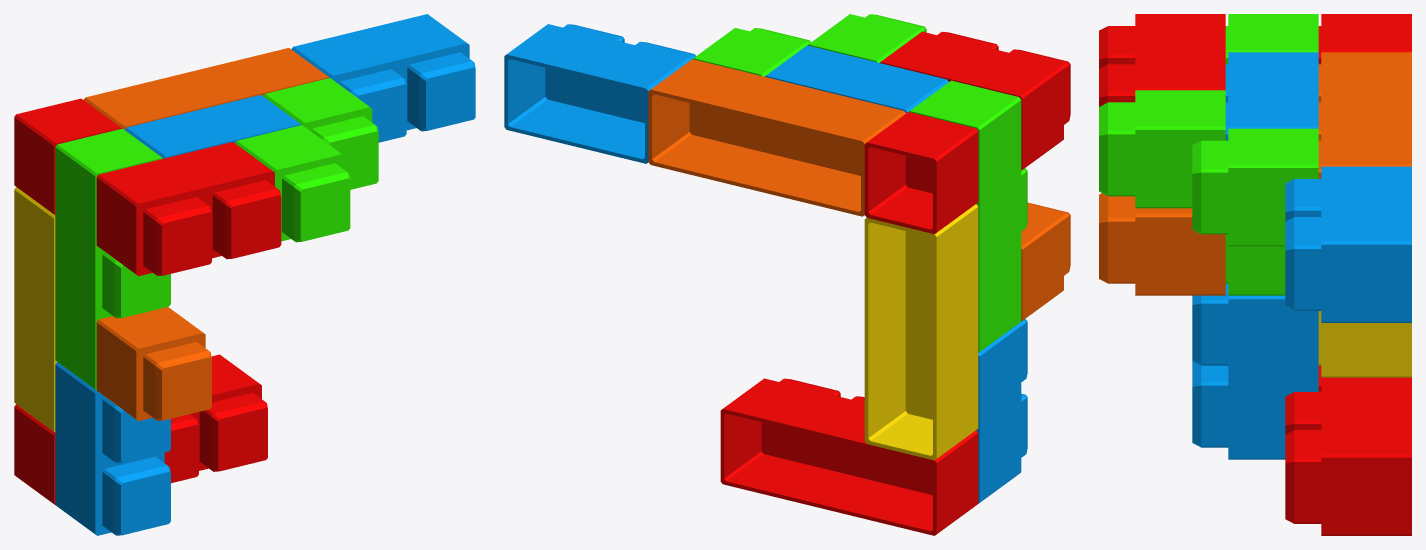
File: blocks.obj
The picture shows the model from 3 angles, left to right: view 1: azimuth 30°, elevation 25°; view 2: azimuth 150°, elevation 25°; view 3: azimuth 270°, elevation 25°; orthographic projection. The views are drawn at different scales.
Visible parts, largest first — view 1: Line043_17, Line045_21, Line047_32, Line041_7, Line050_43, Line042_10, Line046_28, Line040_3, Line051_46, Rectangle031_31, Rectangle014_9, Rectangle042_47 (+24 smaller); view 2: Line045_21, Line041_7, Line049_37, Line042_10, Line043_17, Line040_3, Line047_32, Rectangle009_8, Rectangle038_41, Rectangle026_25, Line050_43, Line046_28 (+11 smaller); view 3: Line049_37, Line042_10, Line050_43, Line041_7, Line044_18, Line048_35, Line051_46, Line046_28, Line047_32, Line043_17, Line045_21, Rectangle033_34 (+23 smaller).
Part boxes in pixels (x1,y1,x2,y2): Line043_17: (55, 128, 157, 386); Line045_21: (14, 187, 51, 428); Line047_32: (96, 142, 268, 271); Line041_7: (84, 48, 324, 125); Line050_43: (55, 362, 92, 531); Line042_10: (291, 14, 462, 75); Line046_28: (125, 95, 296, 156); Line040_3: (14, 98, 116, 211); Line051_46: (96, 307, 198, 416); Rectangle031_31: (212, 180, 281, 259); Rectangle014_9: (407, 52, 475, 131); Rectangle042_47: (143, 342, 211, 420); Line045_21: (864, 207, 974, 460); Line041_7: (648, 62, 901, 216); Line049_37: (720, 381, 974, 535); Line042_10: (504, 27, 685, 163); Line043_17: (909, 83, 1016, 352); Line040_3: (864, 115, 974, 234); Line047_32: (880, 34, 1059, 170); Rectangle009_8: (688, 59, 905, 175); Rectangle038_41: (760, 378, 978, 507); Rectangle026_25: (905, 204, 978, 431); Line050_43: (976, 326, 1016, 503); Line046_28: (764, 48, 944, 113); Line049_37: (1330, 377, 1411, 535); Line042_10: (1330, 166, 1411, 322); Line050_43: (1237, 295, 1318, 459); Line041_7: (1330, 52, 1411, 166); Line044_18: (1237, 128, 1318, 246); Line048_35: (1144, 90, 1225, 208); Line051_46: (1144, 208, 1225, 295); Line046_28: (1237, 52, 1318, 128); Line047_32: (1144, 14, 1225, 90); Line043_17: (1237, 14, 1318, 295); Line045_21: (1330, 323, 1411, 377); Rectangle033_34: (1099, 102, 1135, 196).
Bounding box in the file's own units: 60 × 50 × 34.6.
